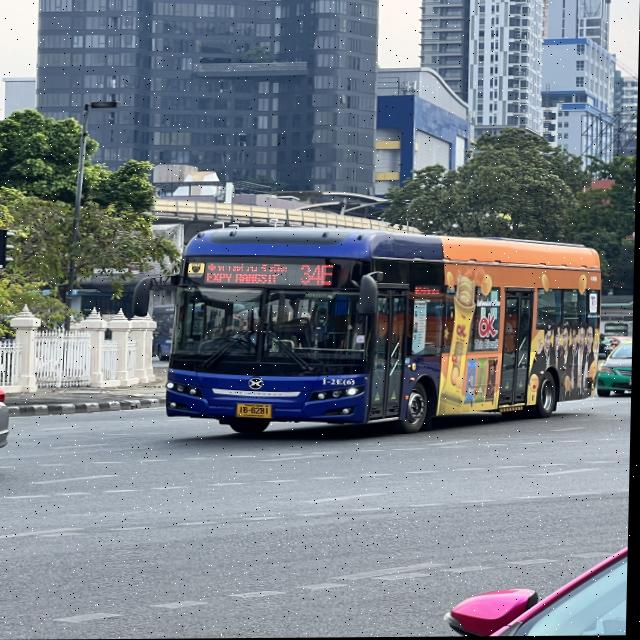Bus Line Number: (296, 262, 341, 290)
Bus Side Number: (321, 376, 360, 388)
Destination Sign: (204, 261, 291, 290)
TSB-Bus: (166, 226, 604, 439)
